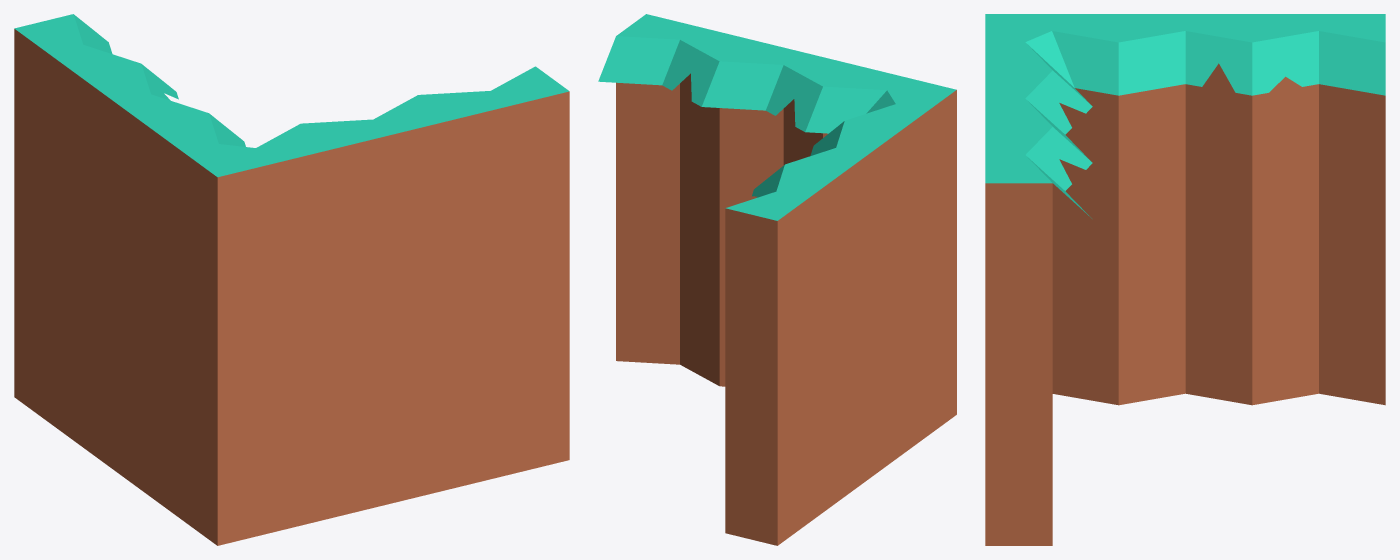
File: cliff_cornerInnerTop_rock.glb
3 renders of one model, left to right at view 1: azimuth 30°, elevation 25°; view 2: azimuth 150°, elevation 25°; view 3: azimuth 270°, elevation 25°, orthographic. The views are drawn at different scales.
Parts seen in each view (by area): view 1: cliff_cornerInnerTop_rock; view 2: cliff_cornerInnerTop_rock; view 3: cliff_cornerInnerTop_rock.
Boxes of the visible parts, x1,y1,x2,y2 form: cliff_cornerInnerTop_rock: (14, 14, 569, 545); cliff_cornerInnerTop_rock: (598, 14, 956, 545); cliff_cornerInnerTop_rock: (985, 14, 1385, 545).
Size of the model in its own units: 1 by 1 by 1.
